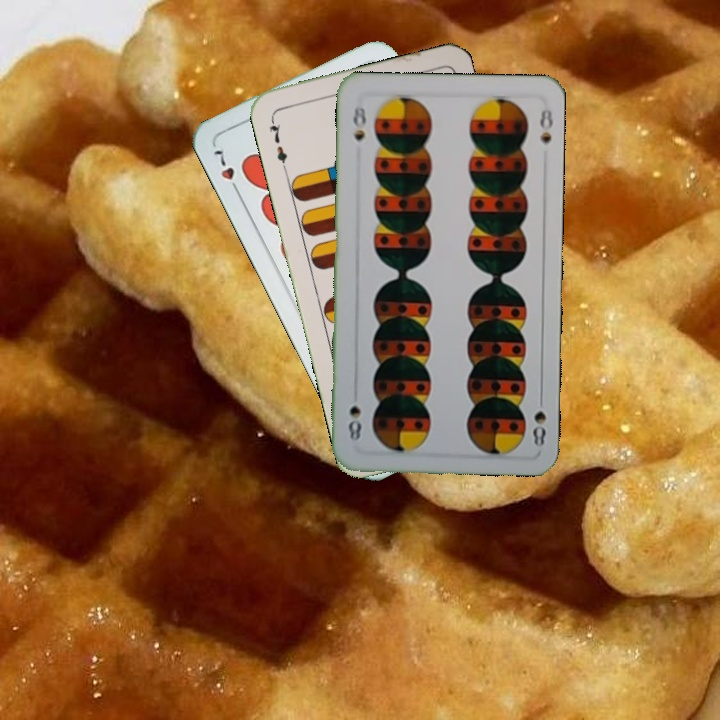E7: (265, 113, 290, 172)
H7: (209, 142, 243, 198)
S8: (529, 390, 549, 449), (349, 98, 370, 143)
